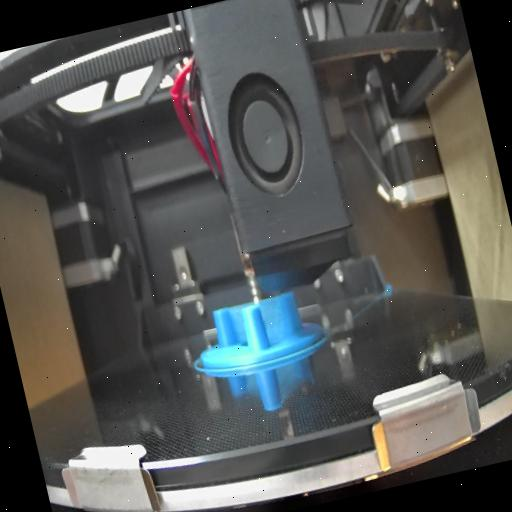stringing: (260, 296, 300, 350), (226, 308, 248, 348)
